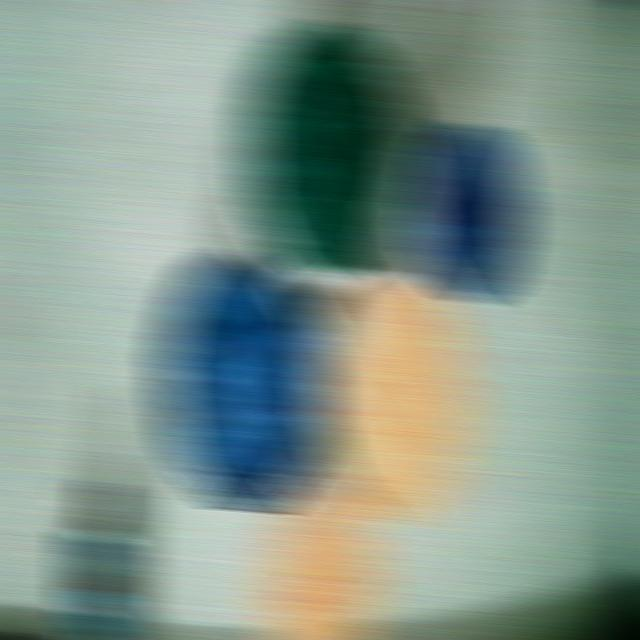blue: (158, 248, 329, 511), (413, 122, 522, 303)
green: (242, 21, 413, 284)
yellow: (318, 277, 475, 521), (258, 492, 385, 639)
